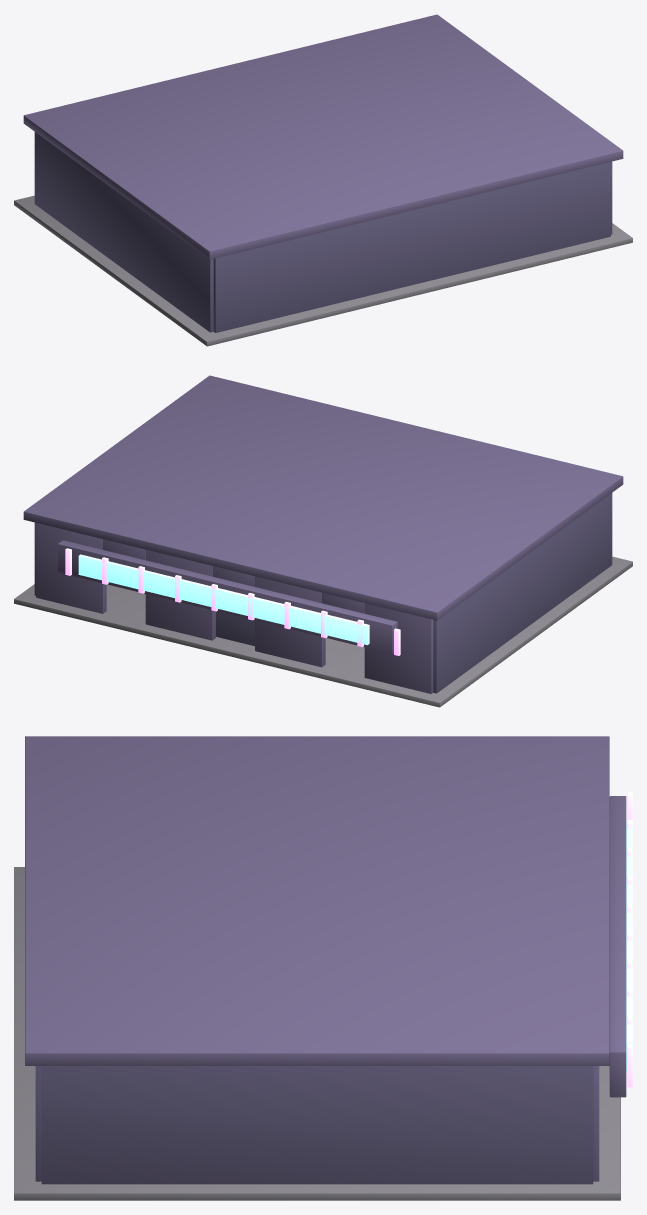
Rendered from th12_spielhalle.glb.
3 renders of one model, top to bottom at view 1: azimuth 30°, elevation 25°; view 2: azimuth 150°, elevation 25°; view 3: azimuth 270°, elevation 25°, orthographic. The views are drawn at different scales.
Parts seen in each view (by area): view 1: Cube.012, Cube.009, Cube.010, Cube; view 2: Cube.012, Cube.010, Cube, Cube.014, Cube.013, Cube.002, Cube.005, Cube.004, Cube.003, Cube.204, Cube.006, Cube.008 (+1 smaller); view 3: Cube.012, Cube.011, Cube, Cube.013, Cube.014, Cube.005, Cube.009.
Boxes of the visible parts, left/top/right/bottom form: Cube.012: left=23, top=14, right=623, bottom=259; Cube.009: left=213, top=162, right=610, bottom=332; Cube.010: left=34, top=132, right=213, bottom=332; Cube: left=14, top=195, right=632, bottom=346; Cube.012: left=23, top=375, right=623, bottom=620; Cube.010: left=433, top=493, right=612, bottom=693; Cube: left=14, top=556, right=632, bottom=707; Cube.014: left=78, top=554, right=369, bottom=645; Cube.013: left=58, top=540, right=397, bottom=653; Cube.002: left=364, top=603, right=433, bottom=693; Cube.005: left=36, top=523, right=106, bottom=613; Cube.004: left=145, top=549, right=215, bottom=640; Cube.003: left=255, top=576, right=325, bottom=667; Cube.204: left=216, top=611, right=254, bottom=646; Cube.006: left=322, top=592, right=364, bottom=613; Cube.008: left=103, top=539, right=145, bottom=560; Cube.012: left=25, top=736, right=609, bottom=1065; Cube.011: left=41, top=1066, right=593, bottom=1184; Cube: left=14, top=867, right=620, bottom=1200; Cube.013: left=609, top=796, right=626, bottom=1097; Cube.014: left=626, top=821, right=632, bottom=1071; Cube.005: left=593, top=1066, right=599, bottom=1181; Cube.009: left=35, top=1066, right=41, bottom=1181.
Bounding box in the file's own units: 28 × 5.72 × 22.44.
